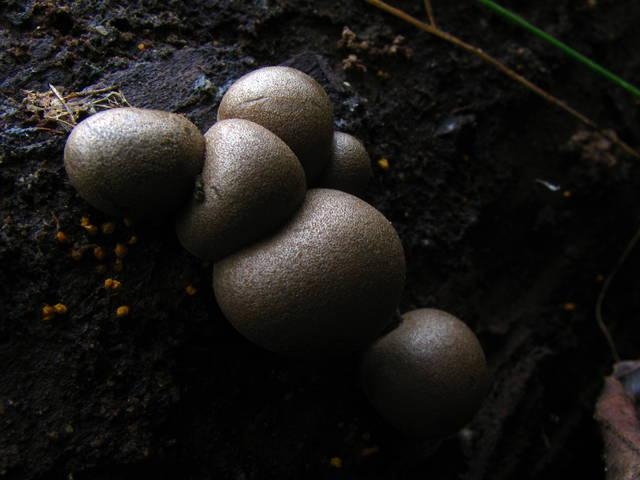poisonous_mushroom: (210, 186, 407, 354), (174, 117, 307, 260), (359, 306, 490, 439), (62, 105, 204, 221), (215, 64, 334, 181), (320, 129, 373, 194)
